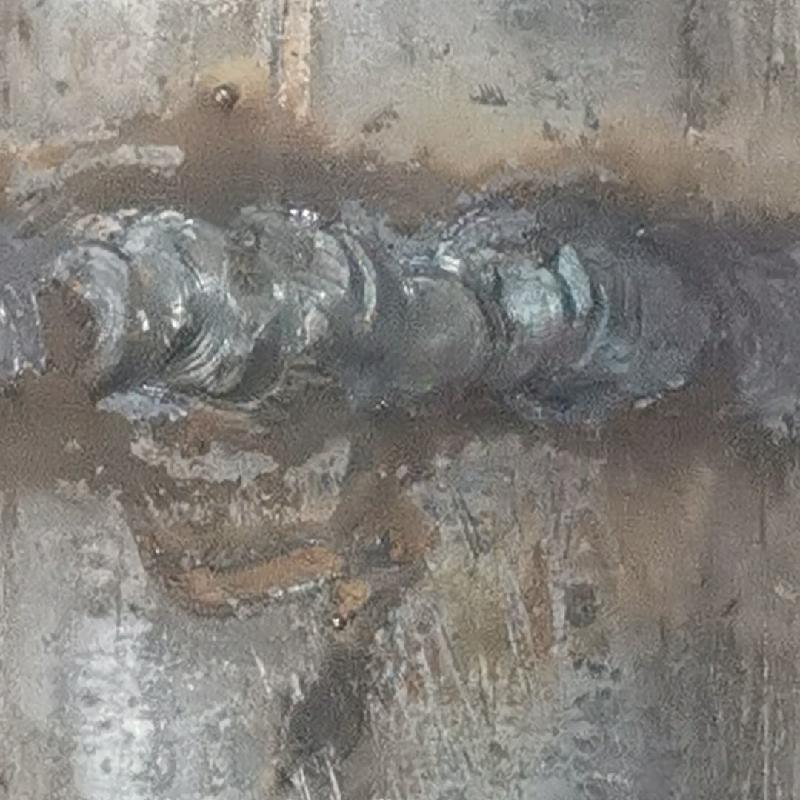good: (4, 201, 799, 422)
